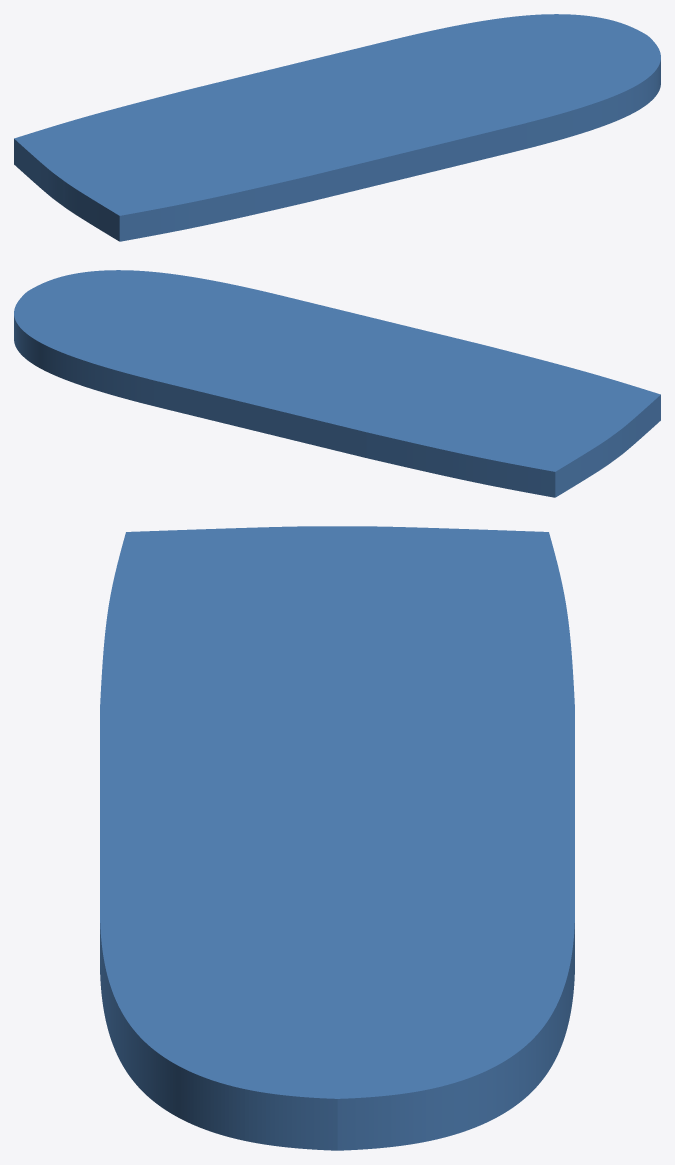
File: board.dae
3 renders of one model, top to bottom at view 1: azimuth 30°, elevation 25°; view 2: azimuth 150°, elevation 25°; view 3: azimuth 270°, elevation 25°, orthographic. The views are drawn at different scales.
Visible parts, largest first — view 1: ID2; view 2: ID2; view 3: ID2.
Boxes of the visible parts, x1,y1,x2,y2 form: ID2: [14, 14, 660, 241]; ID2: [14, 270, 660, 497]; ID2: [100, 526, 574, 1150].
Bounding box in the file's own units: 1.66 × 0.582 × 0.07.
